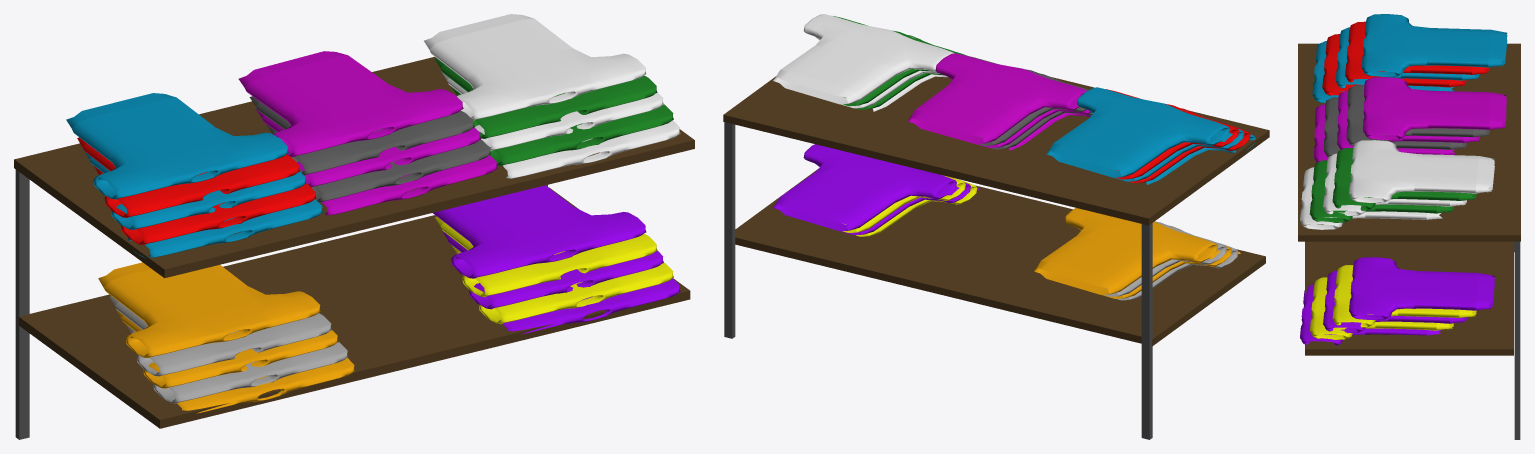
Rendered from clothestable2.fbx.
The picture shows the model from 3 angles, left to right: view 1: azimuth 30°, elevation 25°; view 2: azimuth 150°, elevation 25°; view 3: azimuth 270°, elevation 25°; orthographic projection. The views are drawn at different scales.
Visible parts, largest first — view 1: polySurface85; view 2: polySurface85; view 3: polySurface85.
Part boxes in pixels (x1,y1,x2,y2): polySurface85: (14, 14, 694, 439); polySurface85: (723, 14, 1269, 439); polySurface85: (1298, 14, 1520, 439).
Size of the model in its own units: 2.04 by 1.19 by 1.
